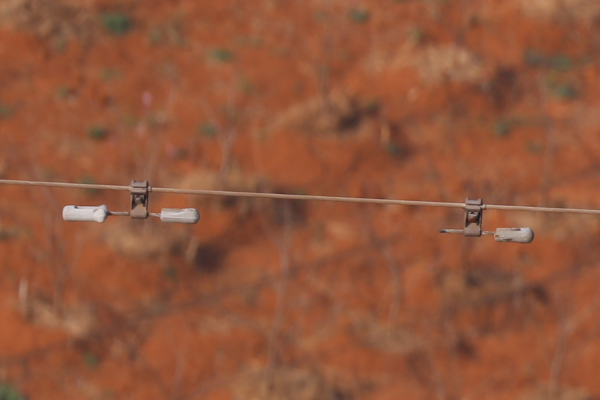damper: (58, 177, 201, 227)
damper_defect: (429, 195, 536, 247)
